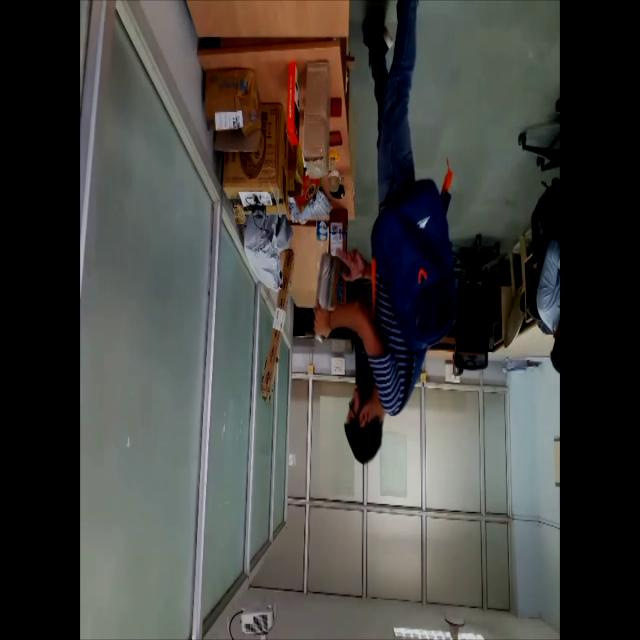normal: (311, 0, 465, 504)
